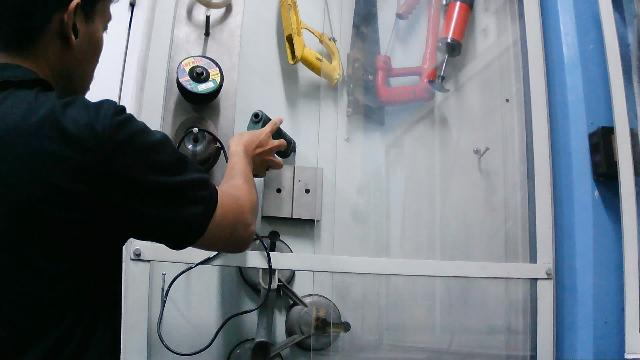gun_lem: (221, 97, 309, 191)
